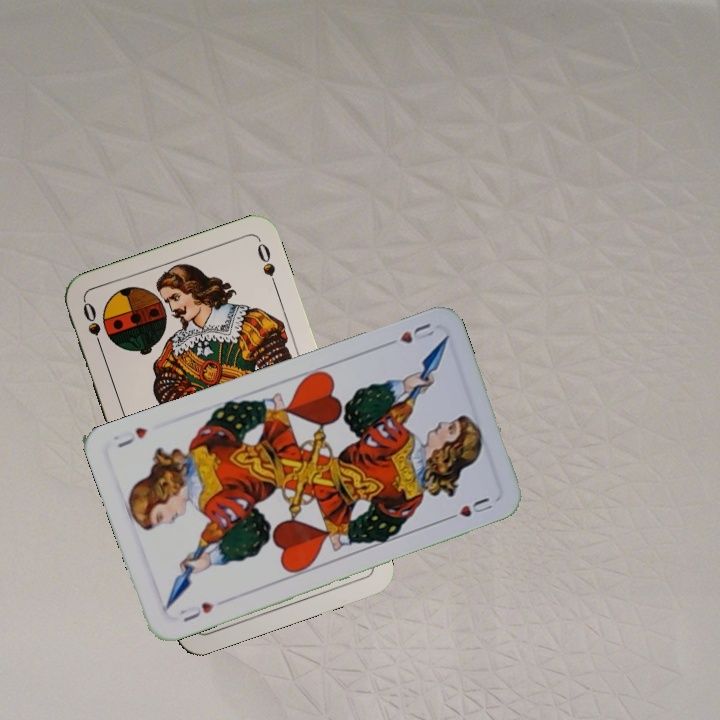HU: (380, 318, 437, 349), (175, 598, 217, 625)
SO: (79, 298, 107, 356)
